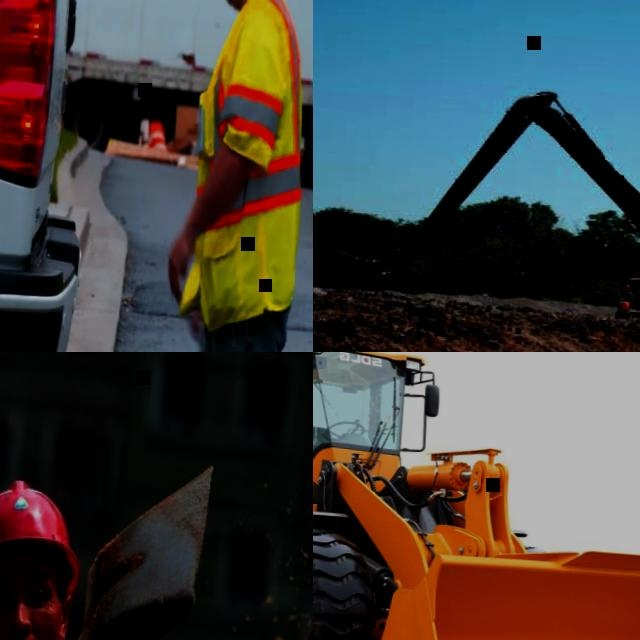Hardhat: (0, 477, 86, 611), (621, 280, 627, 283), (617, 297, 623, 299)
Person: (156, 0, 313, 352), (0, 473, 169, 640), (618, 279, 633, 301), (613, 297, 628, 319)
Safety Cone: (147, 121, 167, 150)
Safety Vest: (173, 0, 313, 334), (617, 300, 628, 310), (618, 282, 629, 291)
machinery: (313, 352, 640, 640), (346, 77, 640, 325)
vehicle: (0, 0, 170, 352)
